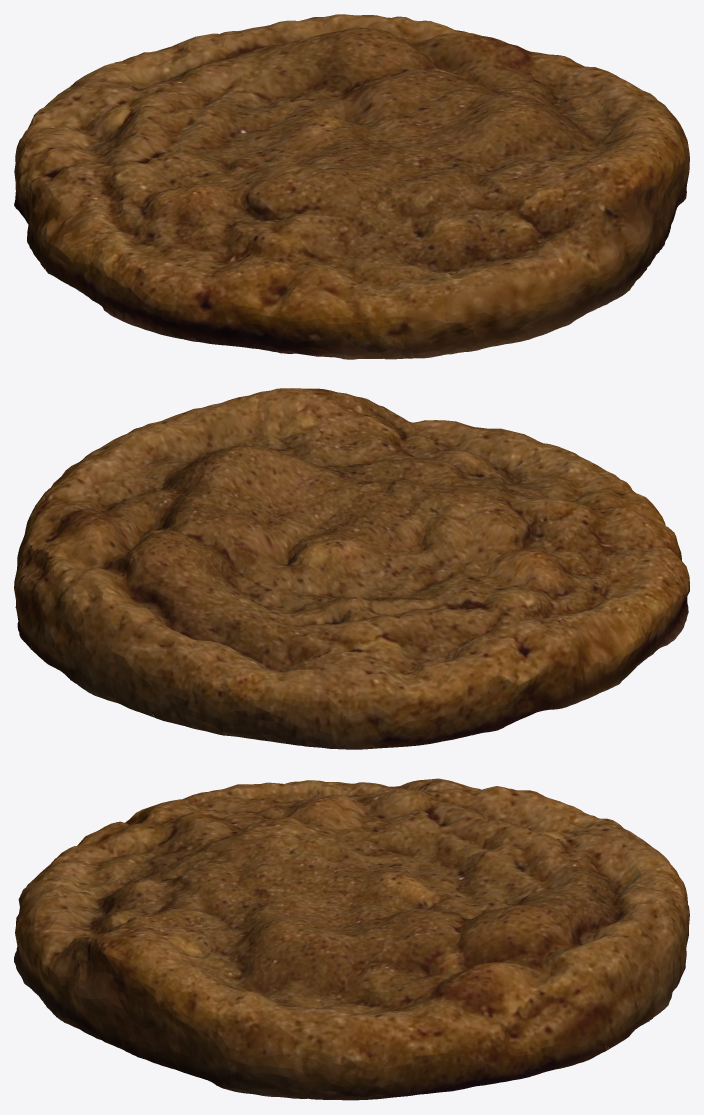
File: peanut-butter-snickerdoodles.gltf
3 renders of one model, top to bottom at view 1: azimuth 30°, elevation 25°; view 2: azimuth 150°, elevation 25°; view 3: azimuth 270°, elevation 25°, orthographic.
Size of the model in its own units: 0.4075 by 0.0638 by 0.4107.
1 material, 1 textured.
